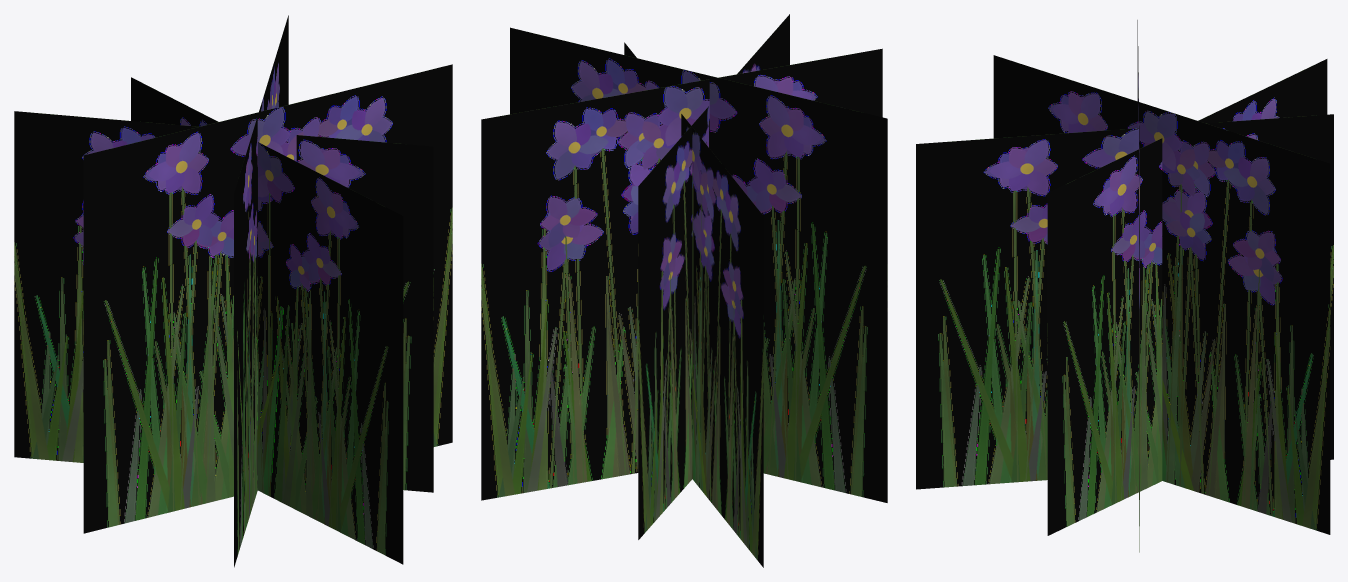
Rendered from Flower_Garden_1_LOD1.gltf.
3 renders of one model, left to right at view 1: azimuth 30°, elevation 25°; view 2: azimuth 150°, elevation 25°; view 3: azimuth 270°, elevation 25°, orthographic. The views are drawn at different scales.
Parts seen in each view (by area): view 1: Flower_Garden_1_LOD1; view 2: Flower_Garden_1_LOD1; view 3: Flower_Garden_1_LOD1.
Part boxes in pixels (x1,y1,x2,y2): Flower_Garden_1_LOD1: (14,15,452,567); Flower_Garden_1_LOD1: (481,14,887,567); Flower_Garden_1_LOD1: (916,20,1333,552).
Bounding box in the file's own units: 0.8995 × 0.878 × 0.887.
1 material, 1 textured.
